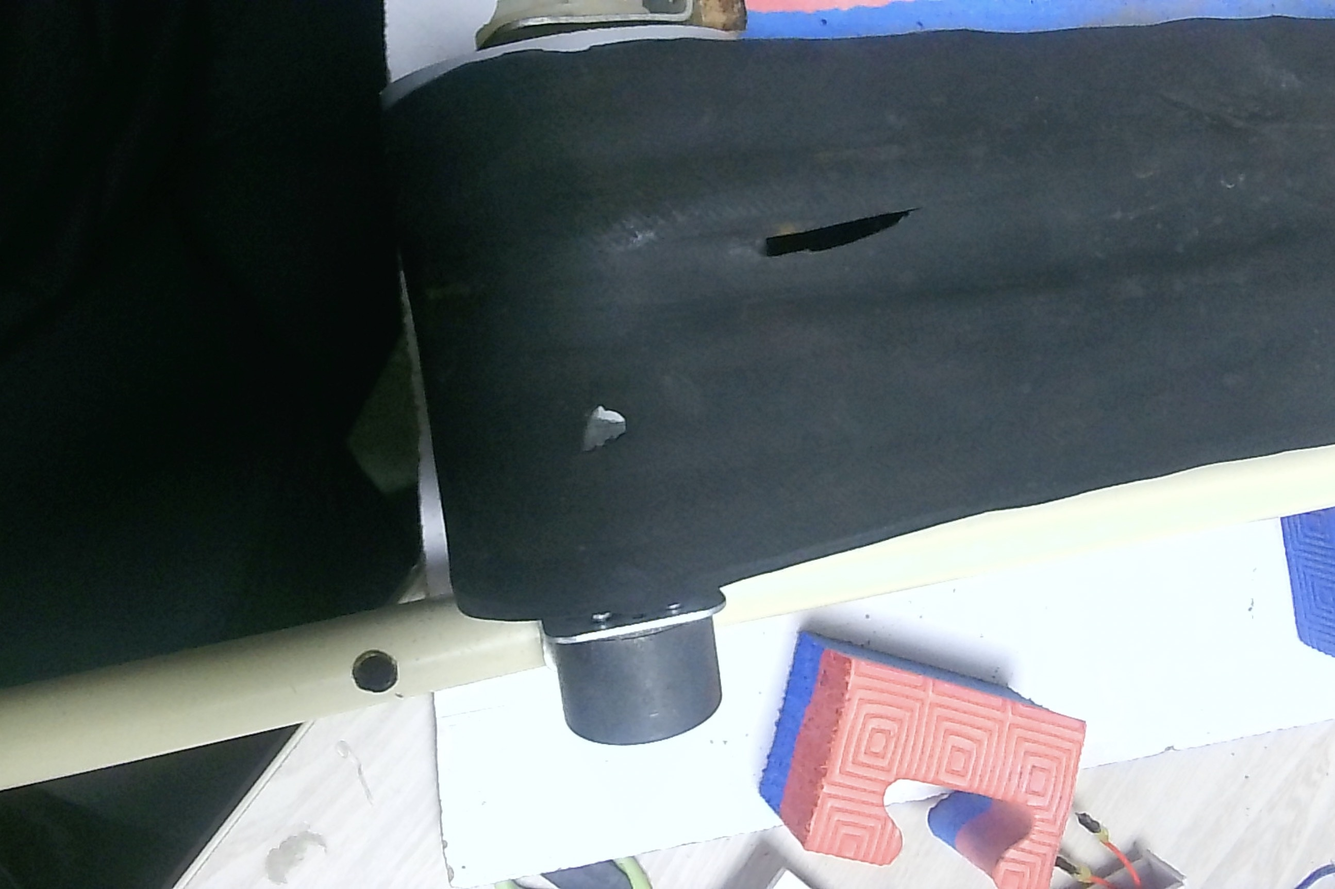hole: (747, 205, 915, 257), (578, 401, 637, 452)
